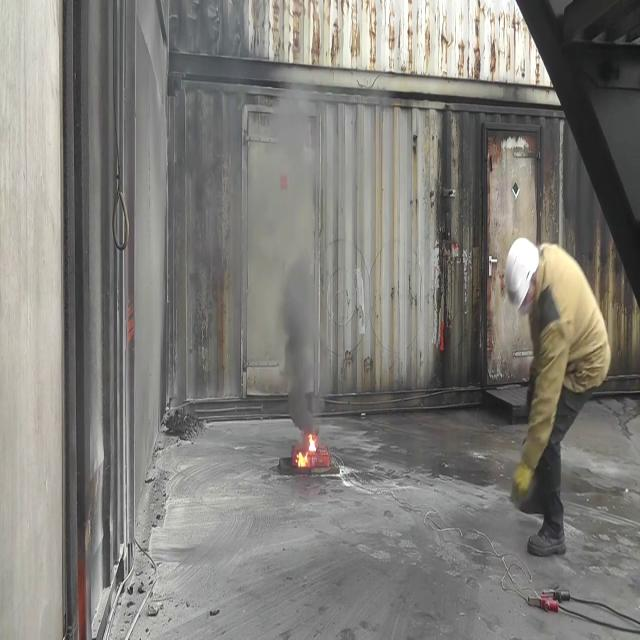Fire: (293, 426, 322, 470)
Smoke: (274, 242, 328, 426)
